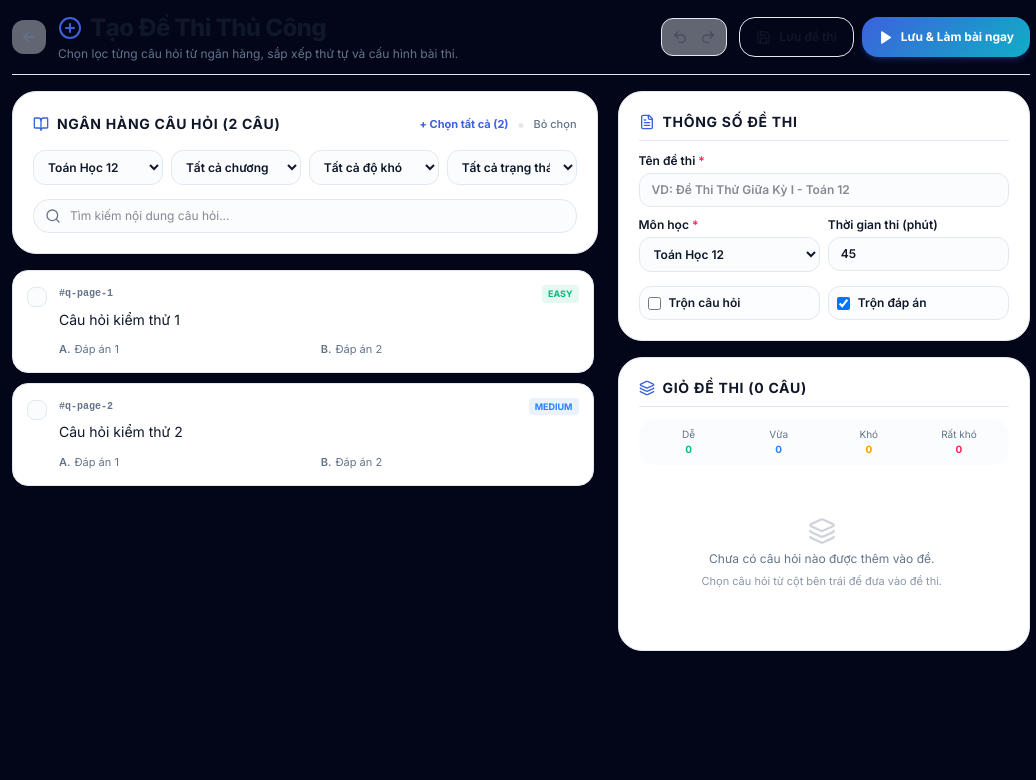
Test: Exam Module UI Pages Integration › ExamBuilderPage should render question bank and allow selecting questions into cart
Check: the heading "Ngân Hàng Câu Hỏi (2 câu)" is shown, box [57,114,280,134]
Check: the heading "Giỏ Đề Thi (0 câu)" is shown, box [662,378,807,398]
// Click on question to add to cart
Click the text "Câu hỏi kiểm thử 1": (119, 319) [59,310,180,328]
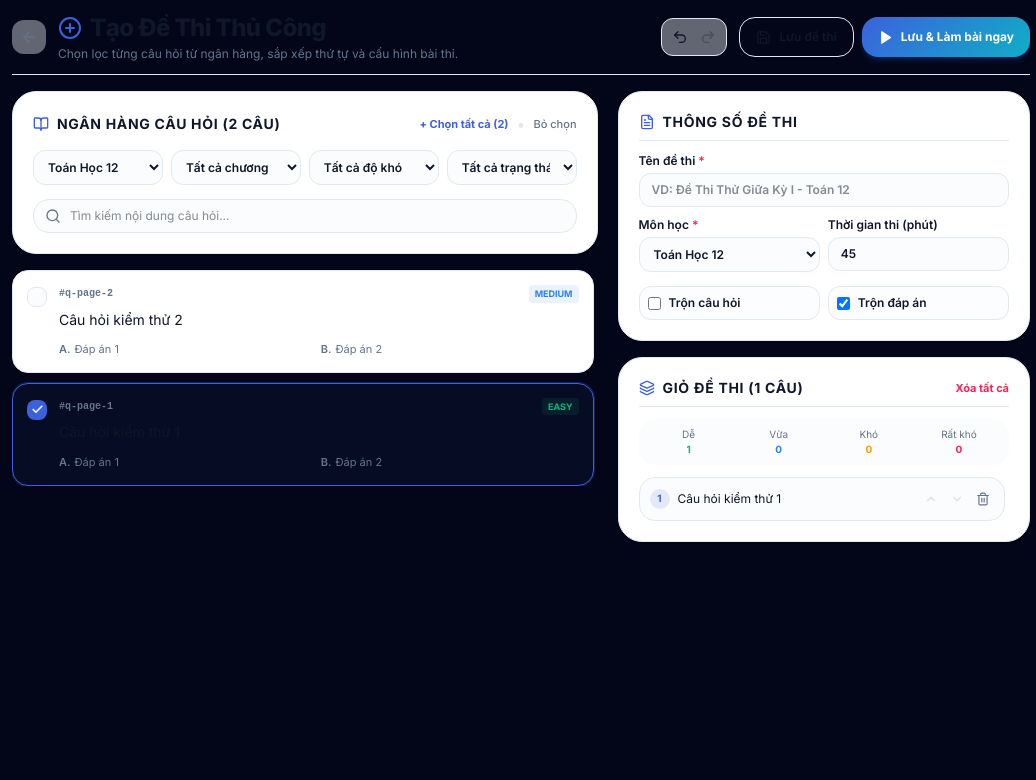
Check: the heading "Giỏ Đề Thi (1 câu)" is shown, box [662,378,804,398]
